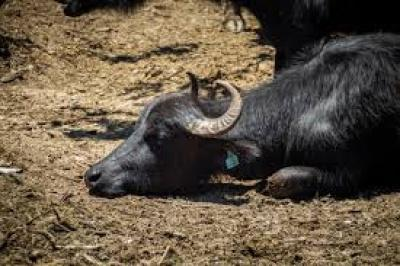buffalo: (85, 32, 399, 198)
